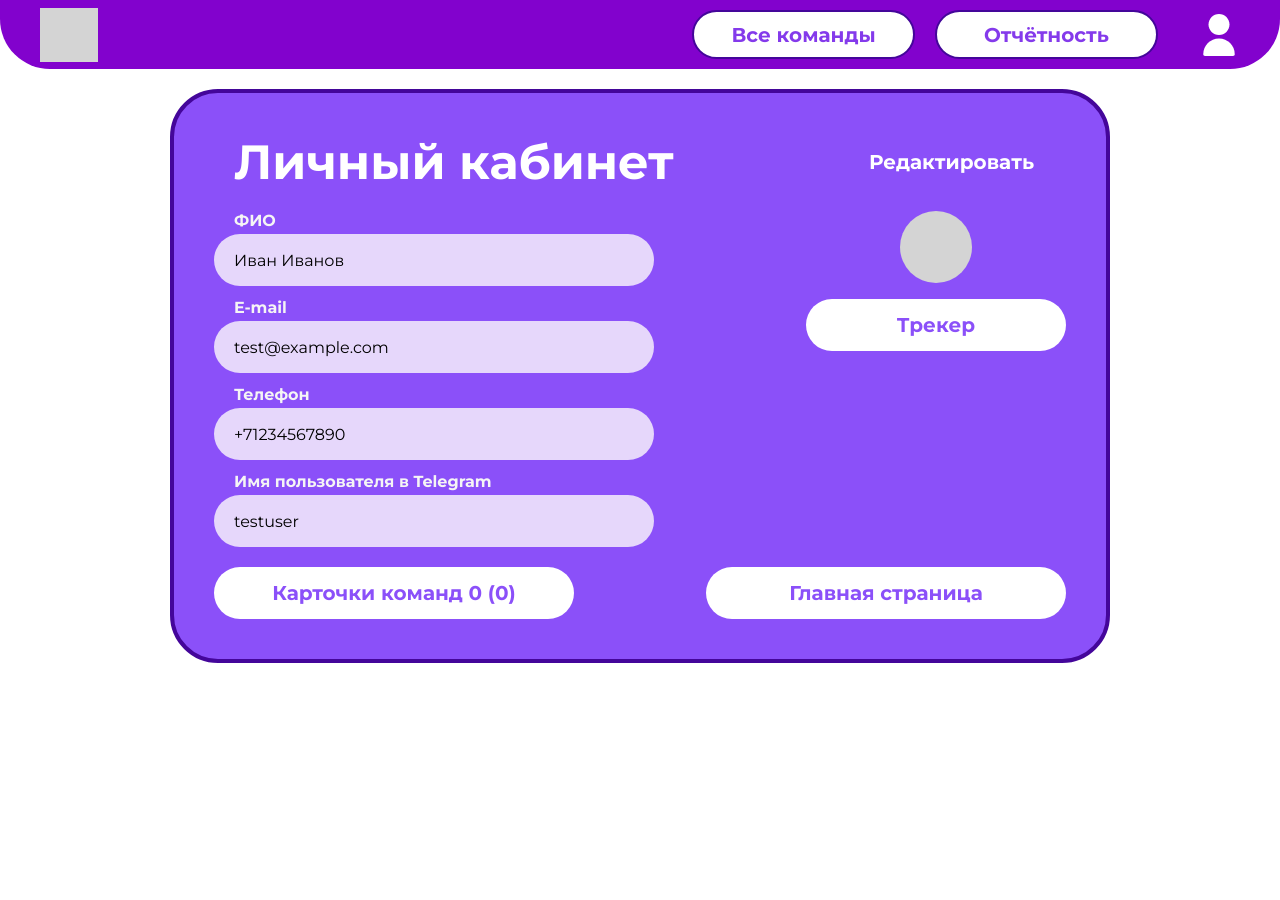
Test: ProfilePage Error Handling › should handle fetch error with non-JSON error in catch block
Step 1. Click the button "Редактировать" → click(952, 162), box [857, 133, 1046, 191]
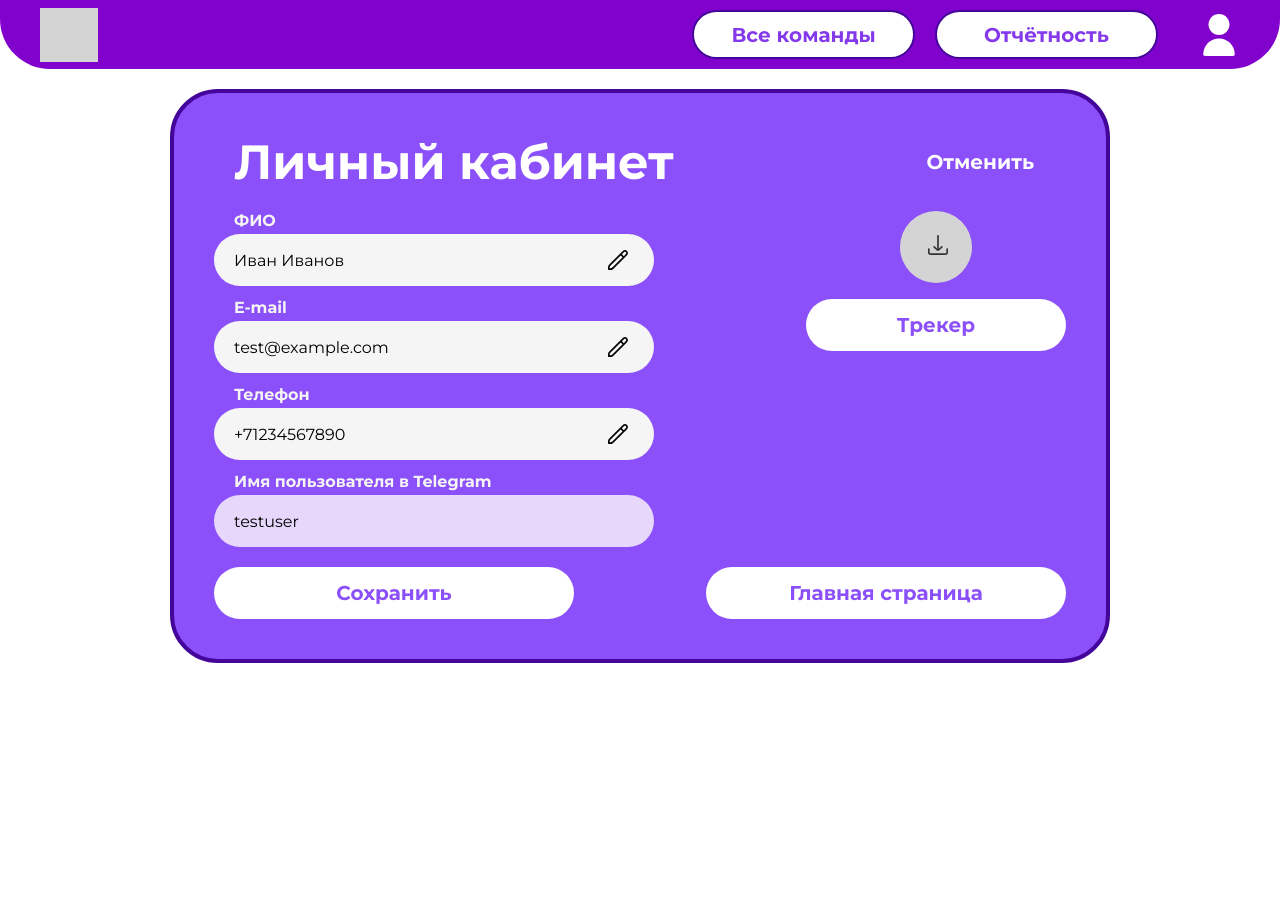
Step 2. Replace the text in the field showing "Иван Иванов" with "Valid Name" → (408, 260), box [214, 250, 603, 270]
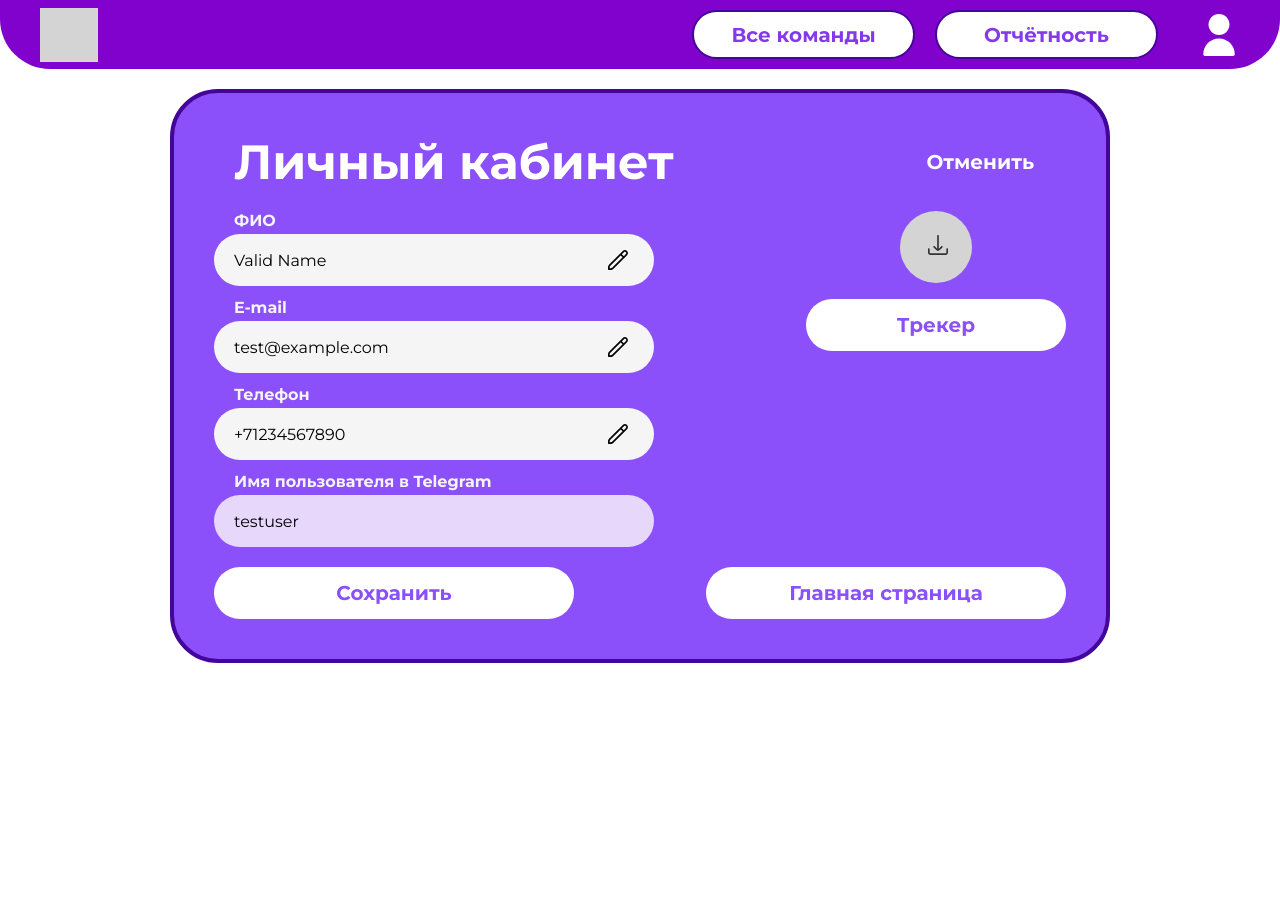
Step 3. Replace the text in the field showing "test@example.com" with "valid@example.com" → (408, 347), box [214, 338, 603, 356]
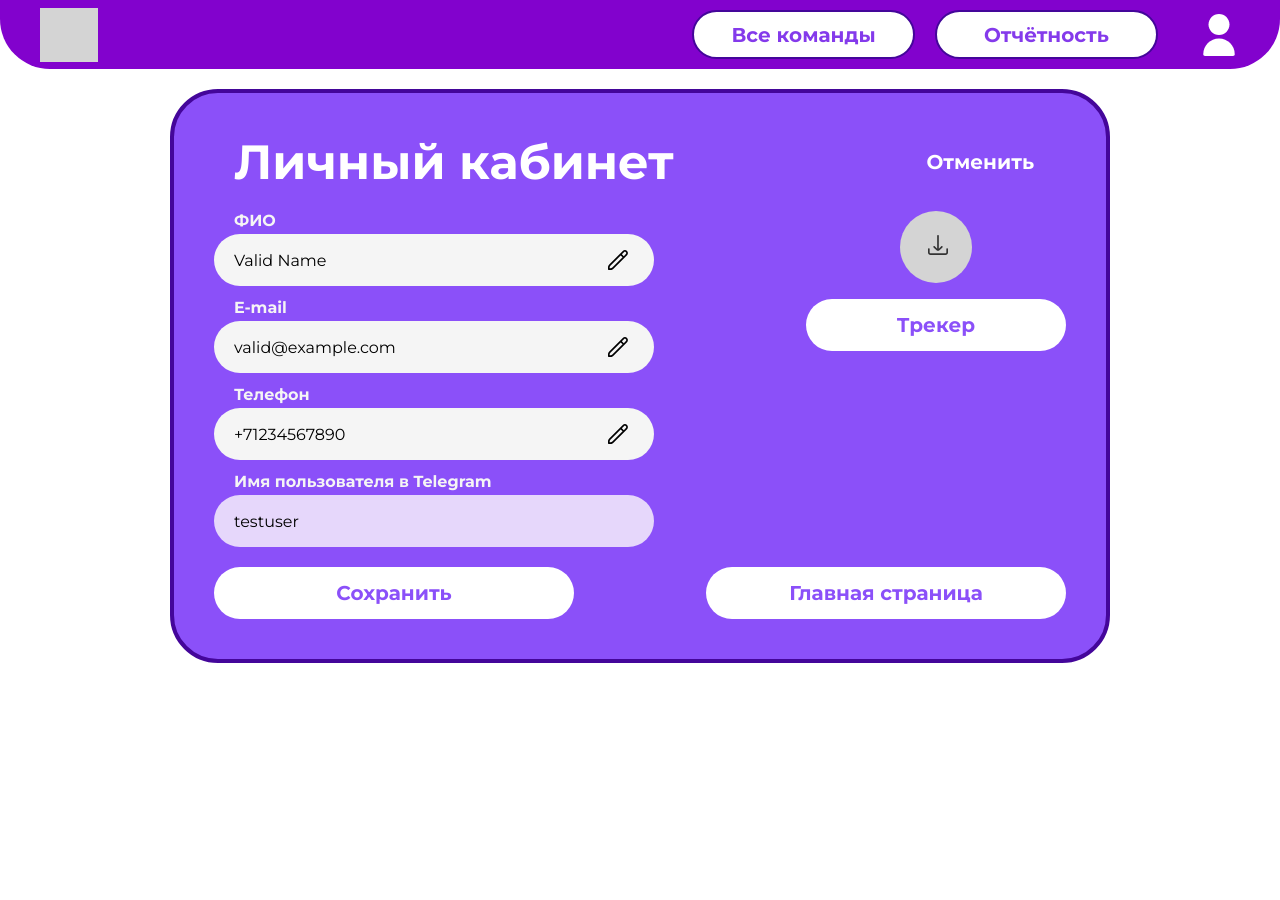
Step 4. Replace the text in the field showing "+71234567890" with "+79999999999" → (408, 434), box [214, 424, 603, 444]
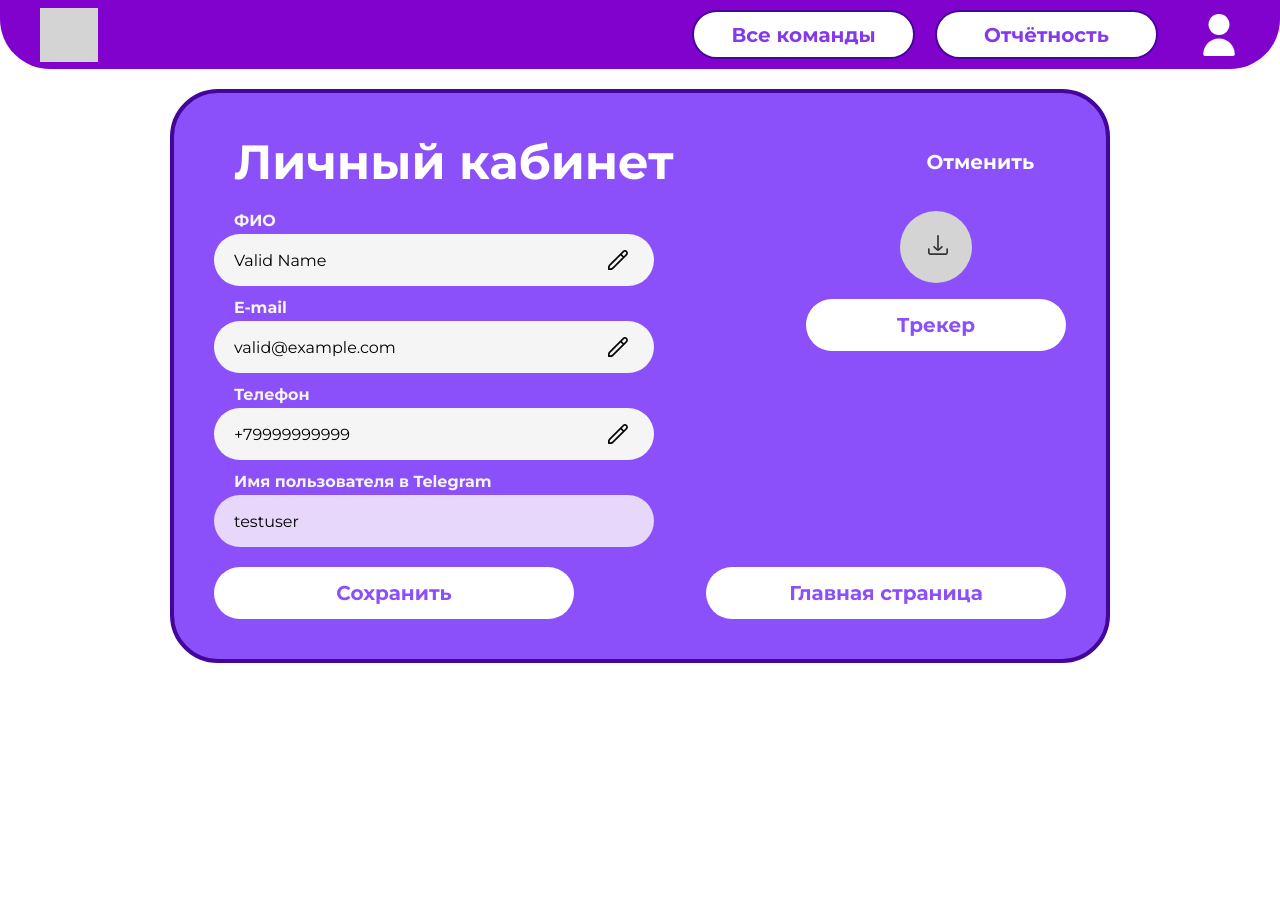
Step 5. Replace the text in the field showing "testuser" with "validuser" → (434, 521), box [214, 512, 654, 530]
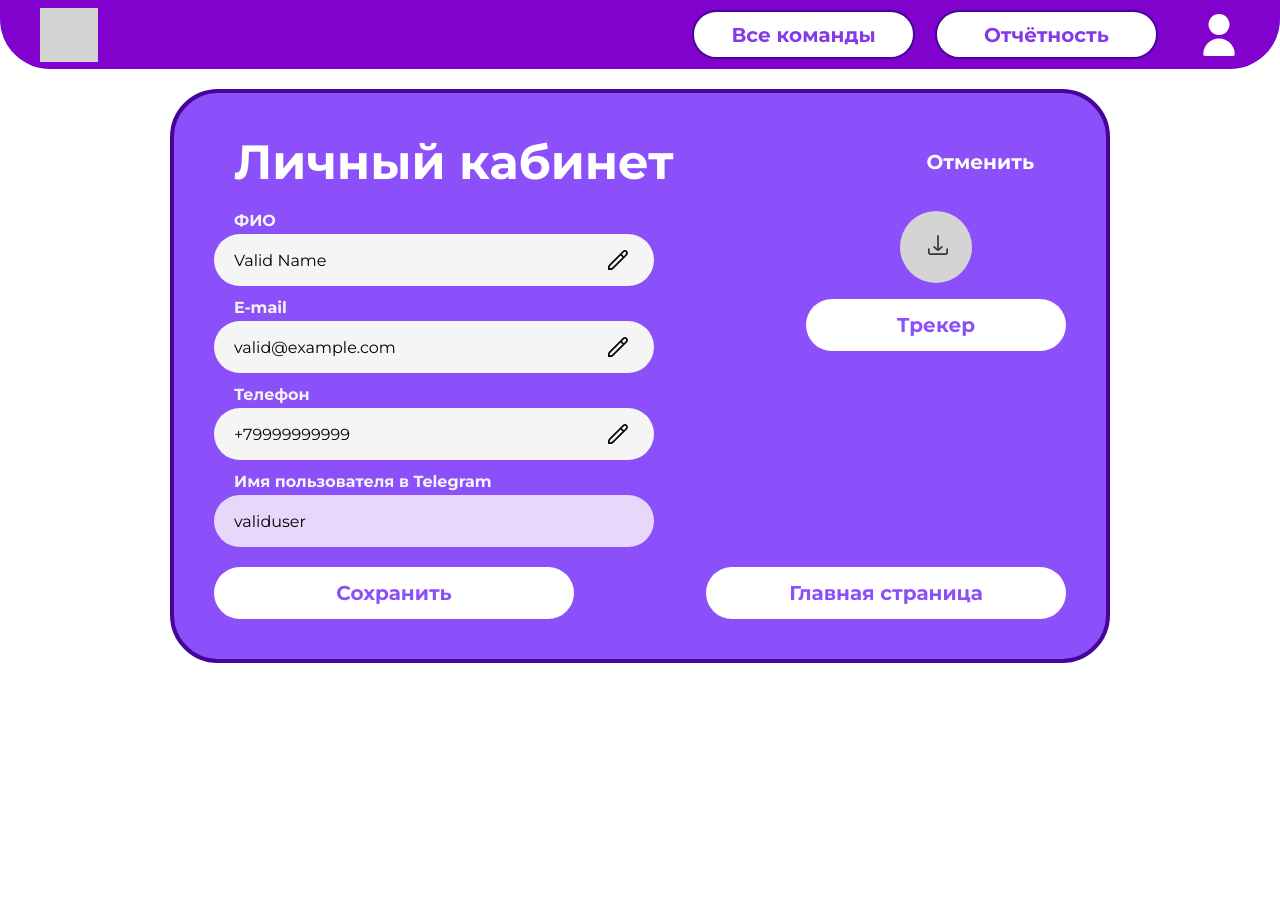
Step 6. Click the button "Сохранить" → click(394, 593), box [214, 567, 574, 619]
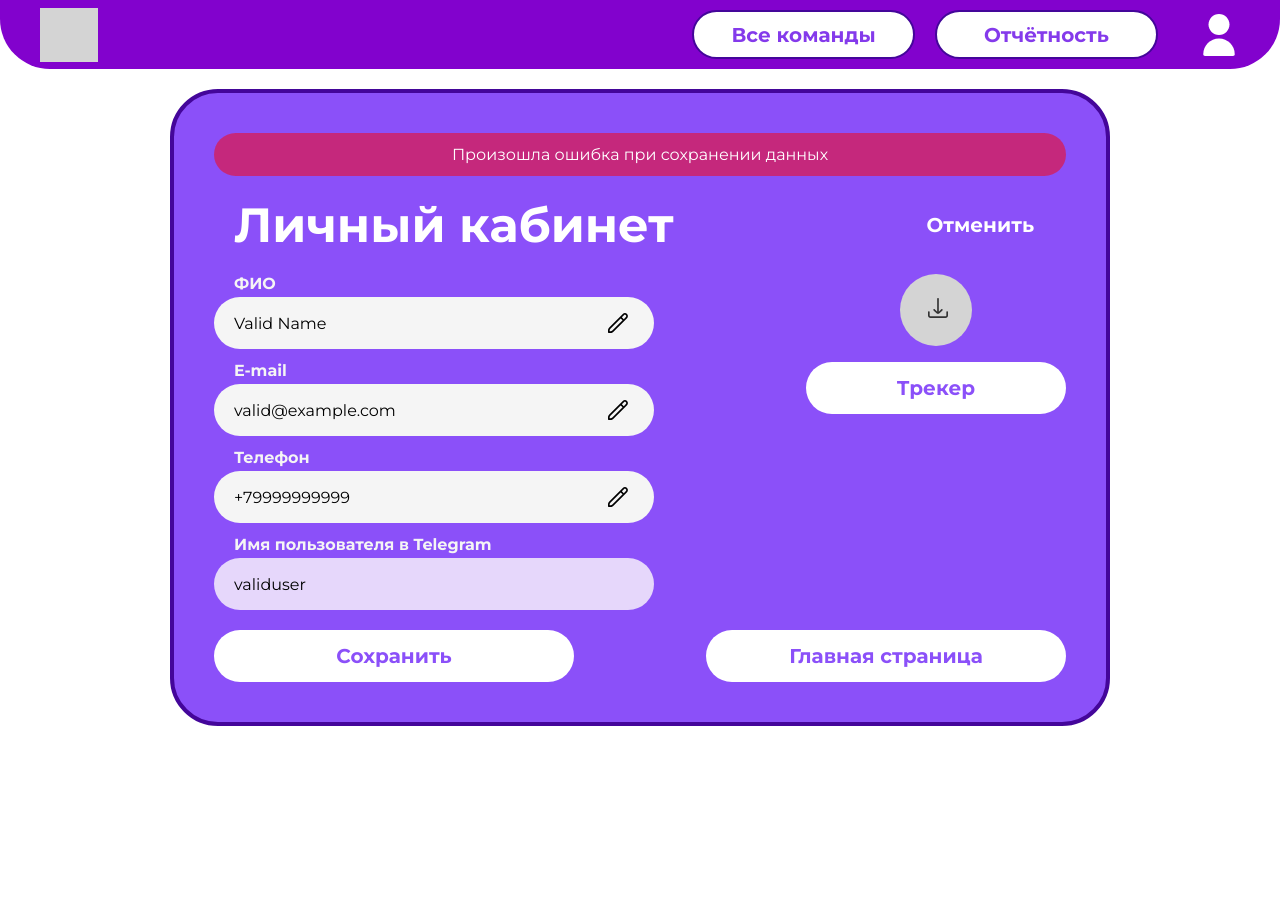
Expected: the text "Произошла ошибка при сохранении данных" is shown, [214, 133, 1066, 176]
